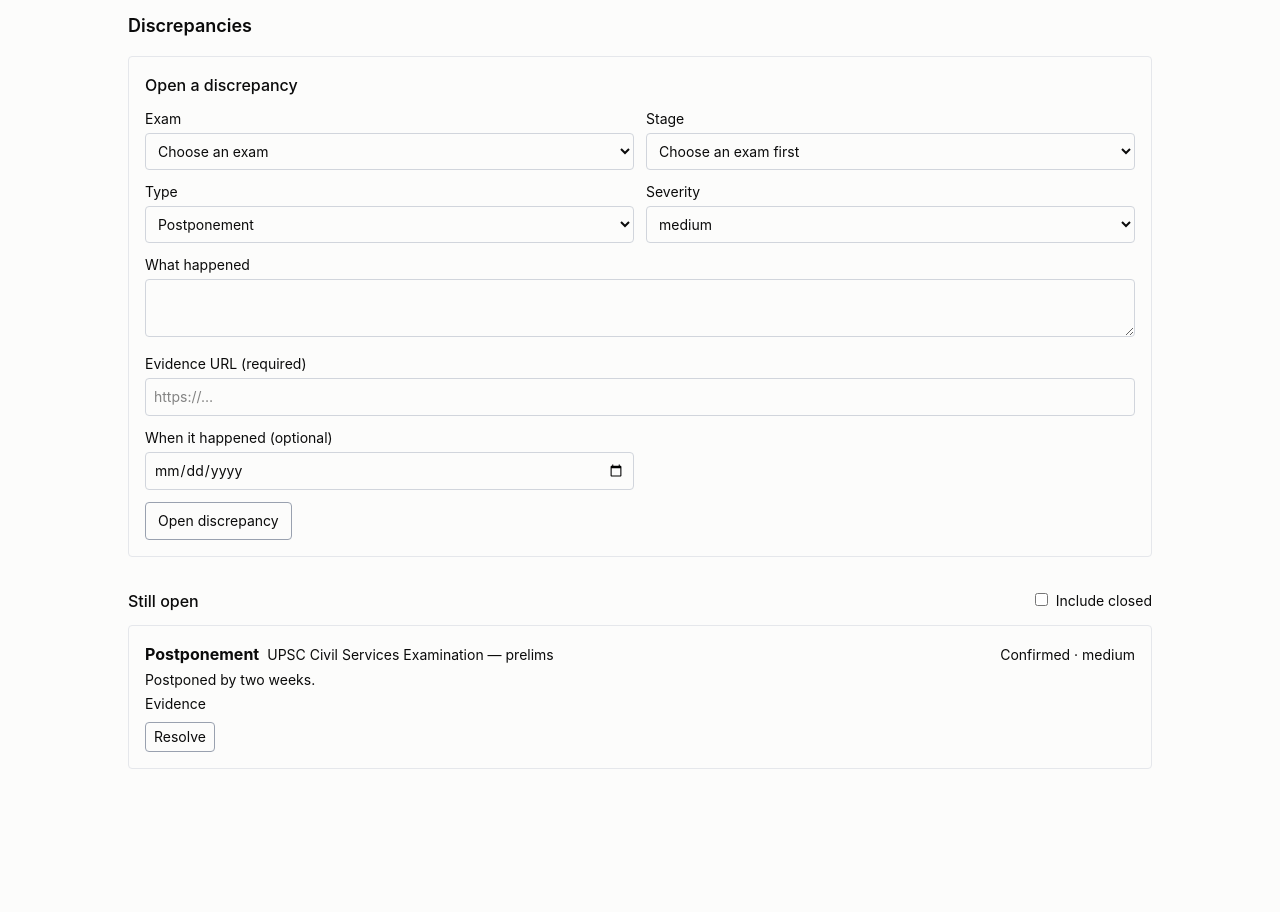
updating and resolving › will not resolve with an empty reason
The width and height of the screenshot is (1280, 912).
Expected: the list item is shown, [128,625,1152,769]
Click the button "Resolve".
click(180, 737)  # box [145,722,215,752]
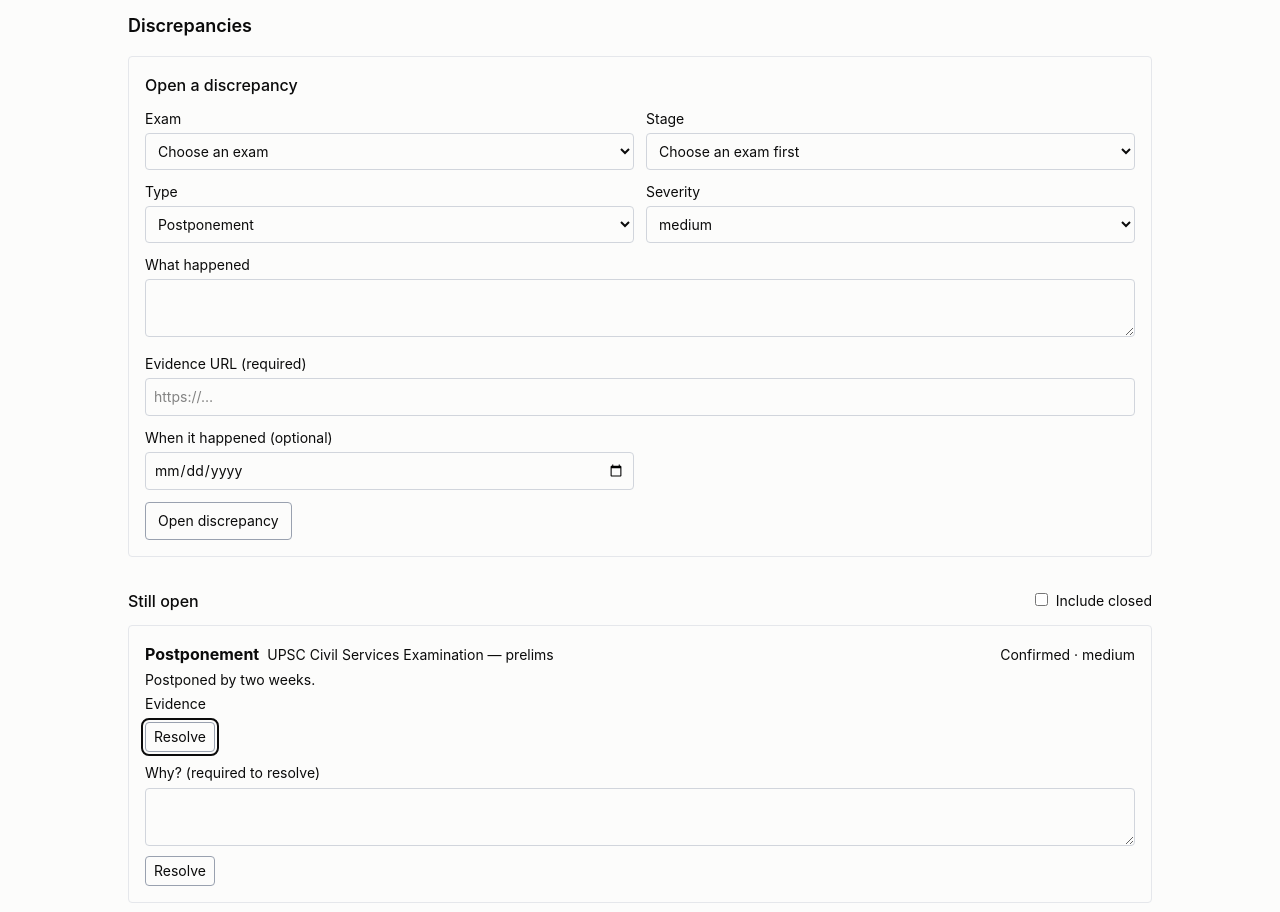
Result: the button "Resolve" below "Why? (required to" is disabled at [145,856,215,886]
